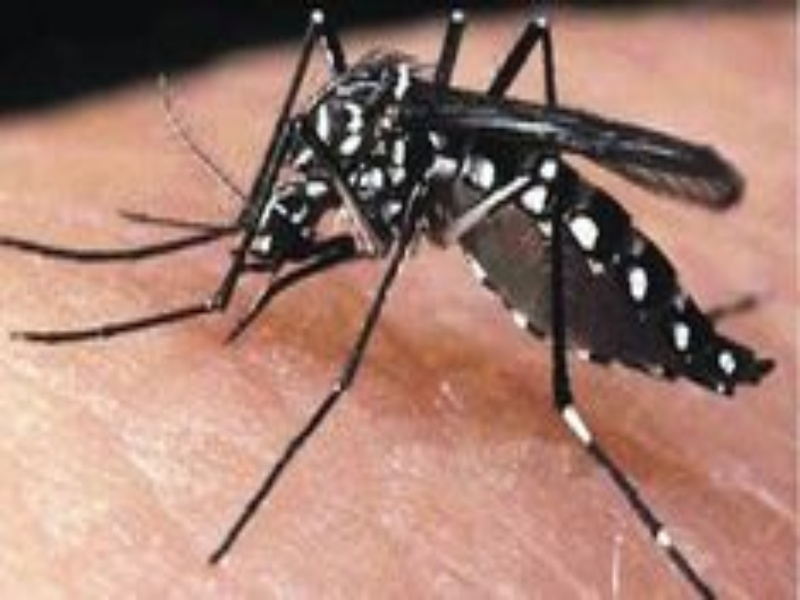dengue_mosquito: (117, 11, 777, 444)
